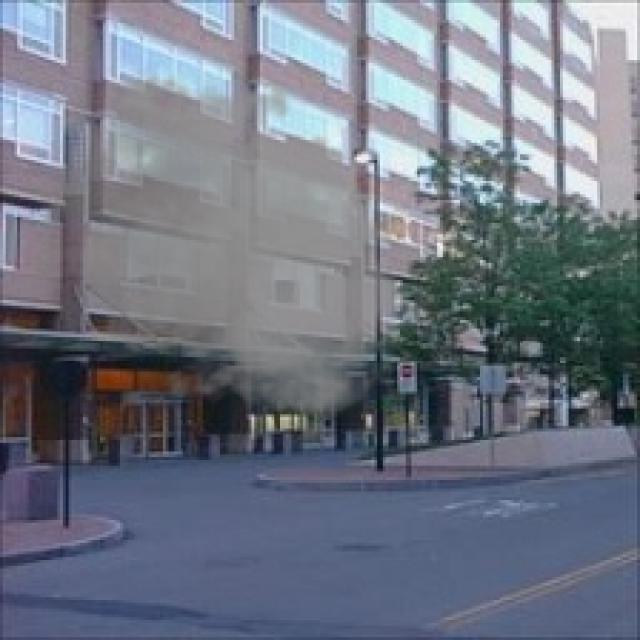Smoke: (23, 63, 420, 423)
